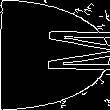M_W: (3, 31, 107, 79)
